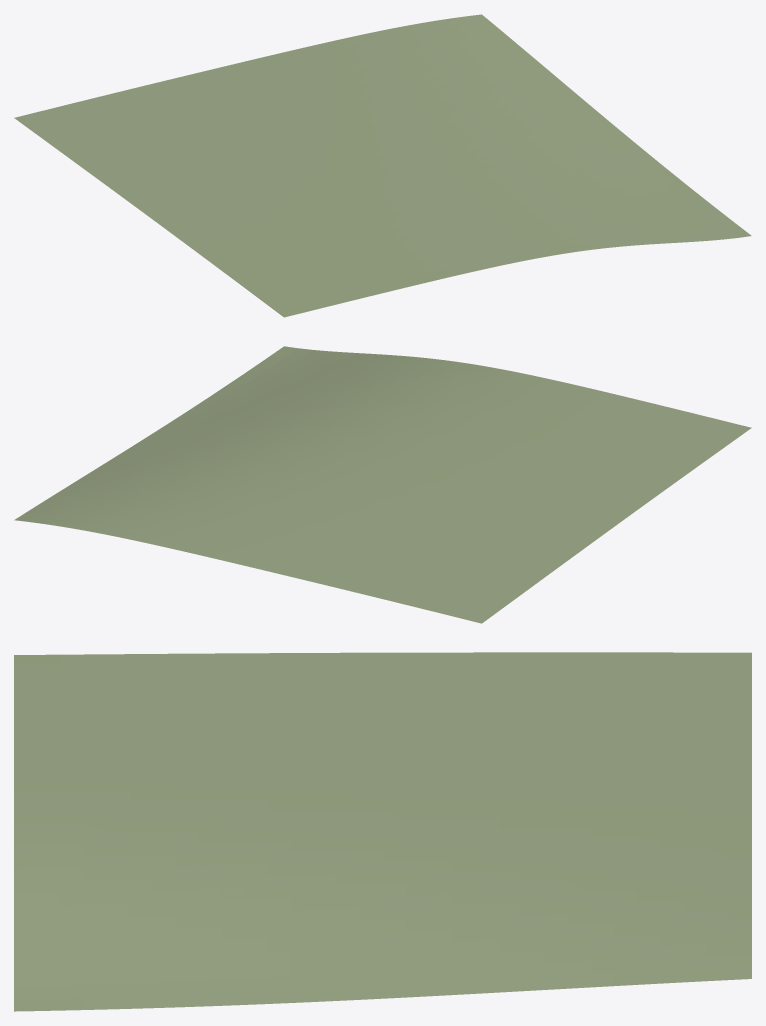
File: desert-11-31.glb
The picture shows the model from 3 angles, top to bottom: view 1: azimuth 30°, elevation 25°; view 2: azimuth 150°, elevation 25°; view 3: azimuth 270°, elevation 25°; orthographic projection. The views are drawn at different scales.
Parts seen in each view (by area): view 1: desert-11-31; view 2: desert-11-31; view 3: desert-11-31.
Part boxes in pixels (x1=…): desert-11-31: x1=14, y1=14, x2=751, y2=317; desert-11-31: x1=14, y1=346, x2=751, y2=623; desert-11-31: x1=14, y1=652, x2=751, y2=1011.
Bounding box in the file's own units: 512 × 36.58 × 512.
